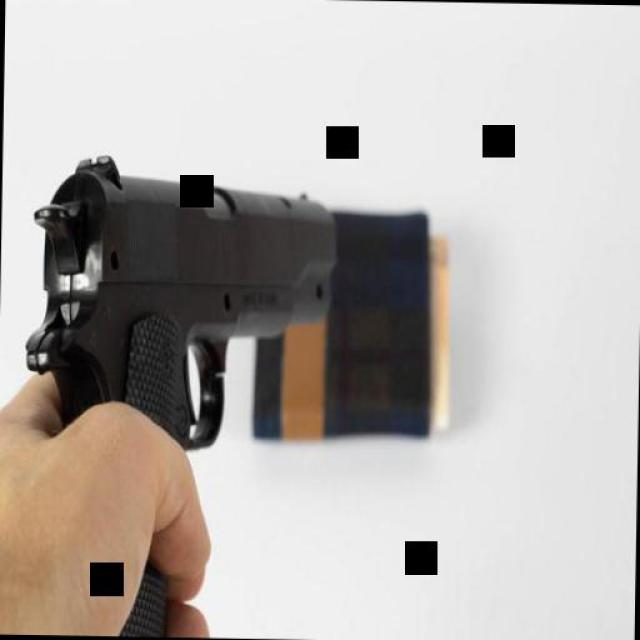gun: (16, 147, 339, 638)
